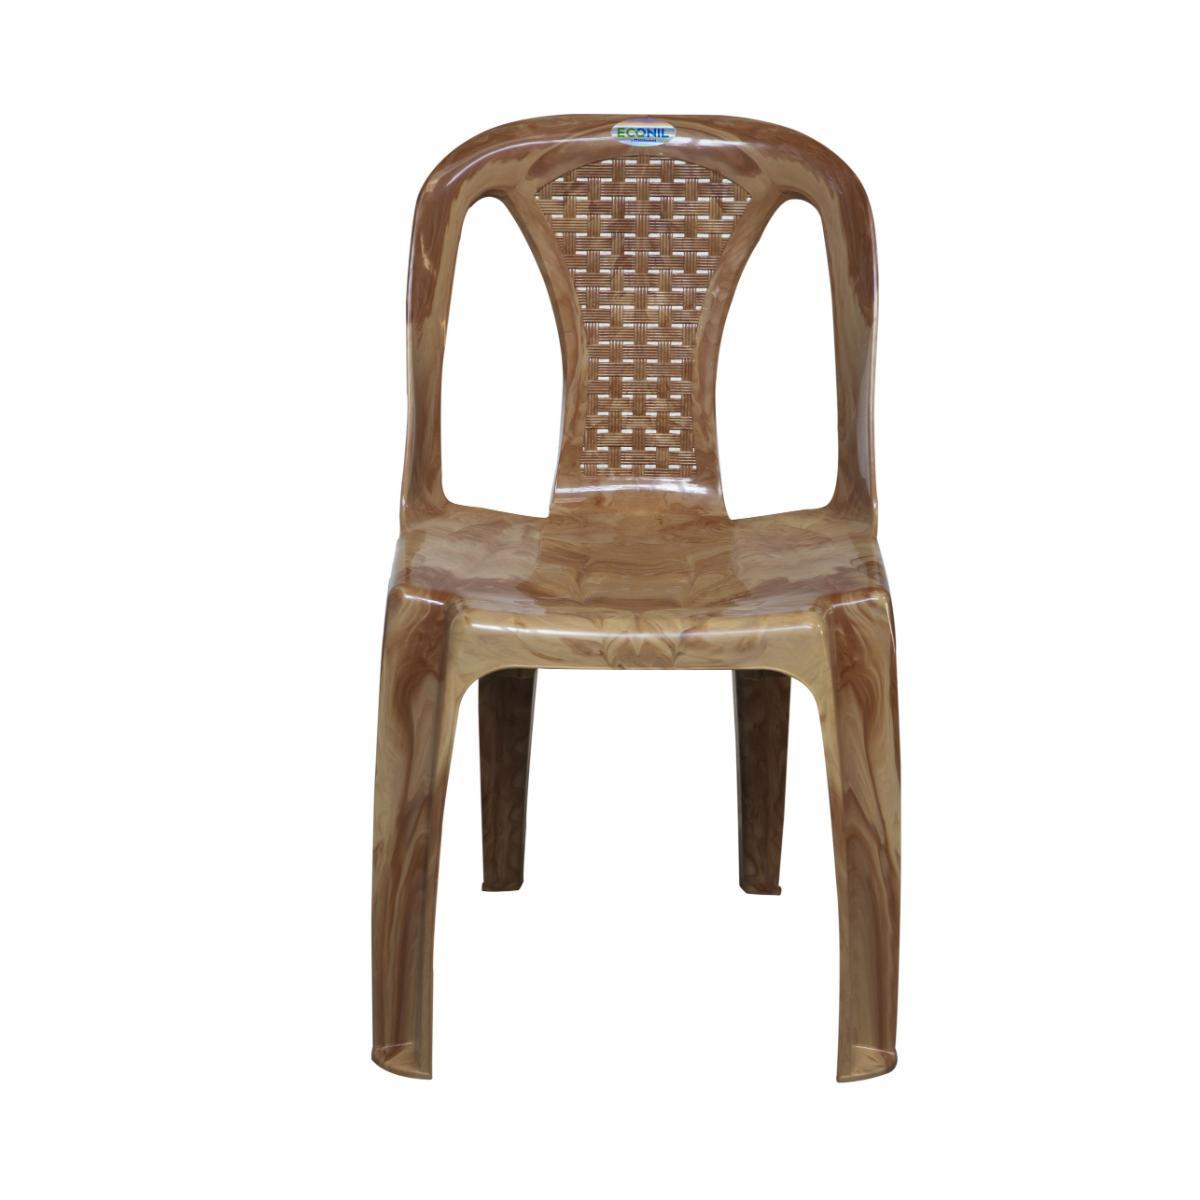Chair: (369, 112, 908, 1082)
